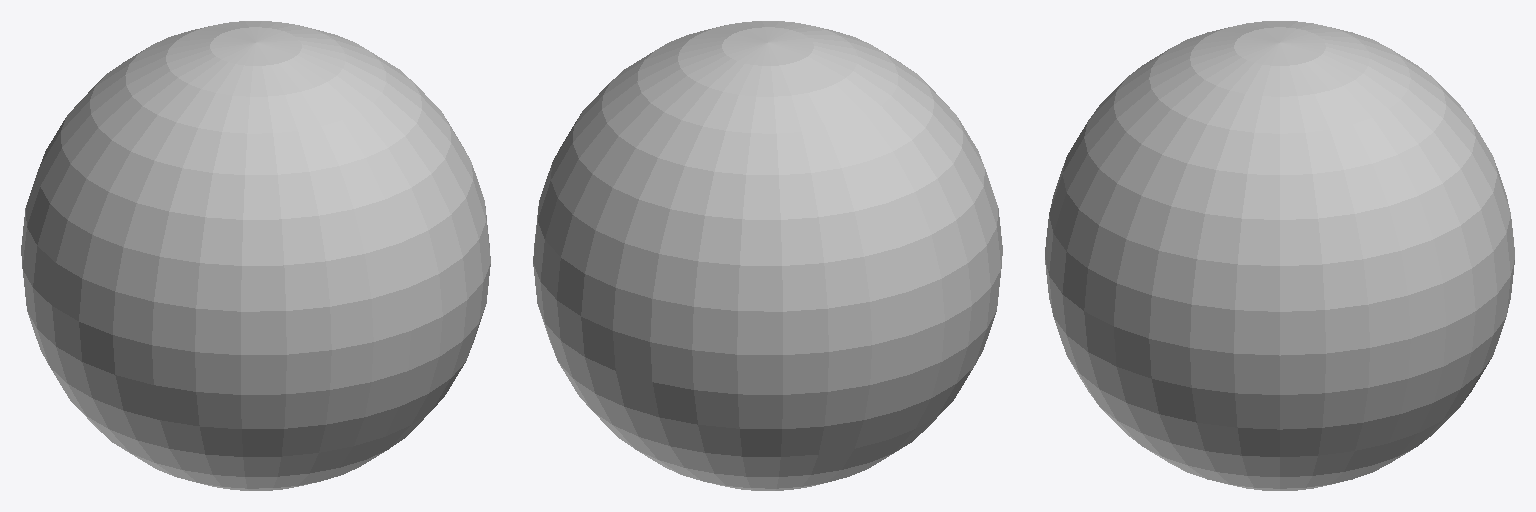
File: power_up.obj
3 renders of one model, left to right at view 1: azimuth 30°, elevation 25°; view 2: azimuth 150°, elevation 25°; view 3: azimuth 270°, elevation 25°, orthographic.
Parts seen in each view (by area): view 1: Sphere; view 2: Sphere; view 3: Sphere.
Boxes of the visible parts, x1=… form: Sphere: x1=21, y1=21, x2=490, y2=490; Sphere: x1=533, y1=21, x2=1002, y2=490; Sphere: x1=1045, y1=21, x2=1514, y2=490.
Bounding box in the file's own units: 0.6 × 0.6 × 0.6.